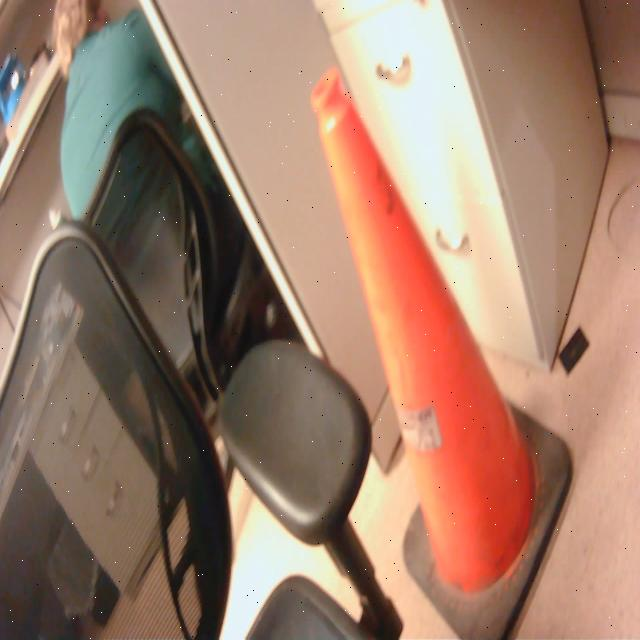traffic cone: (307, 64, 577, 640)
